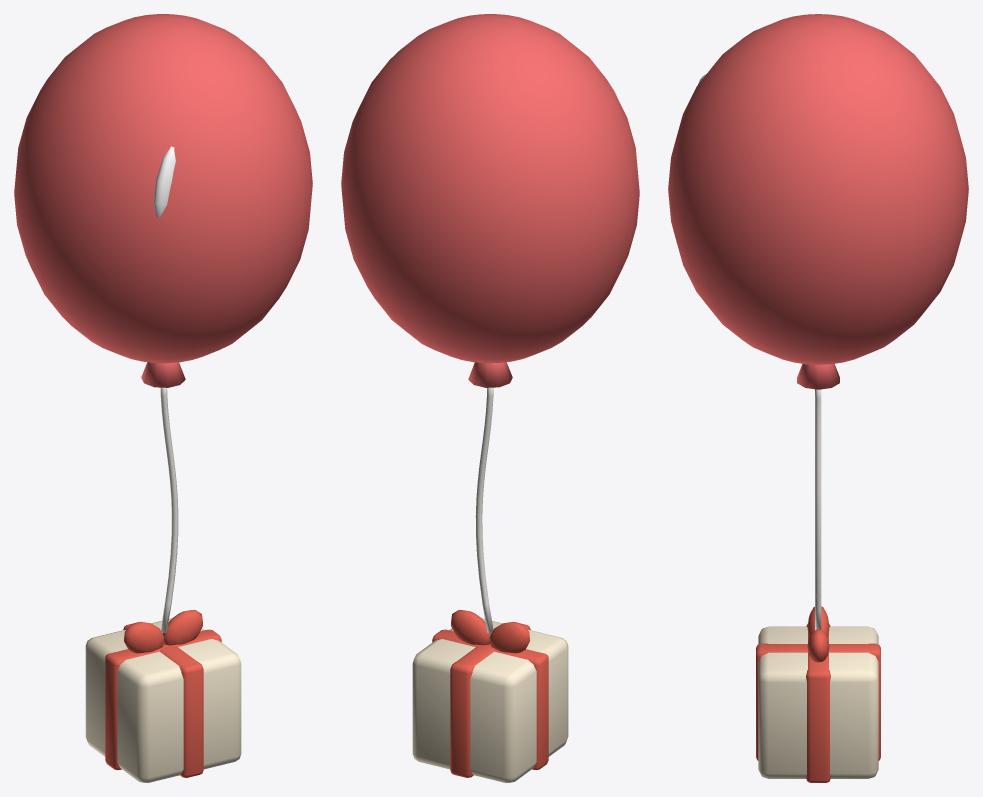
The model's file is gift-balloon.glb.
3 renders of one model, left to right at view 1: azimuth 30°, elevation 25°; view 2: azimuth 150°, elevation 25°; view 3: azimuth 270°, elevation 25°, orthographic.
Parts seen in each view (by area): view 1: balloon, gift; view 2: balloon, gift; view 3: balloon, gift.
Part boxes in pixels (box(x1,y1,x2,y2)): balloon: box(14, 14, 312, 632); gift: box(85, 610, 241, 782); balloon: box(341, 14, 639, 632); gift: box(412, 610, 568, 782); balloon: box(668, 14, 968, 630); gift: box(756, 606, 880, 782).
Size of the model in its own units: 0.6 by 1.61 by 0.6.
